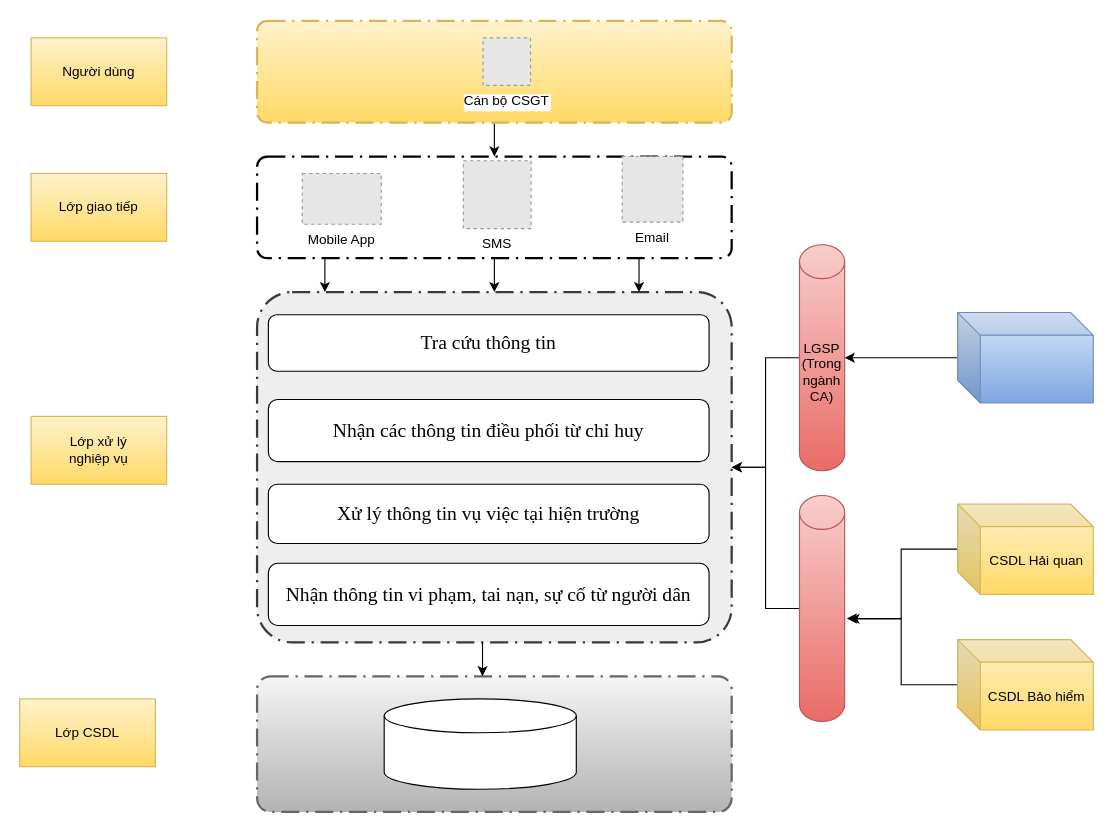
Image size: 1113x832. Some labels were removed from this diagram. Grey dashed boxes stand in for pictures. Here are the shapes that lost their labels. From the top down, the box of each, then its label:
(957, 311, 1093, 403): CSDL Dân cư
(798, 494, 845, 722): LGSP (Ngoài ngành CA)
(383, 698, 576, 789): CSDL Hệ thống
